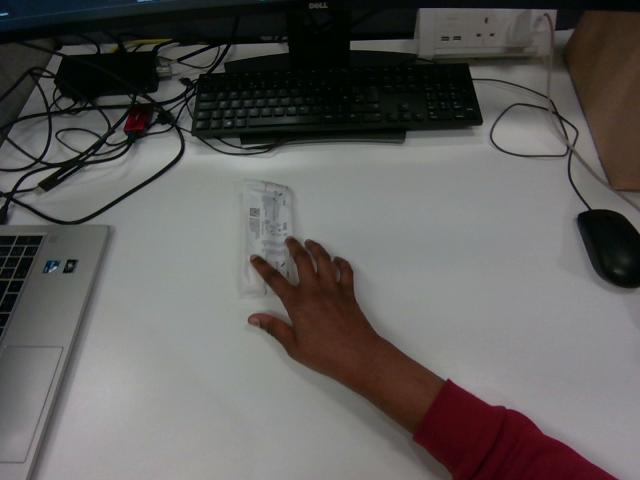syringe: (241, 180, 294, 296)
